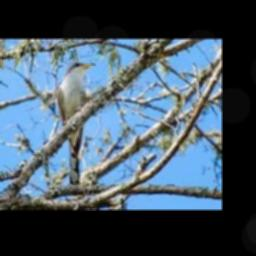Cuckoo: (56, 62, 95, 188)
